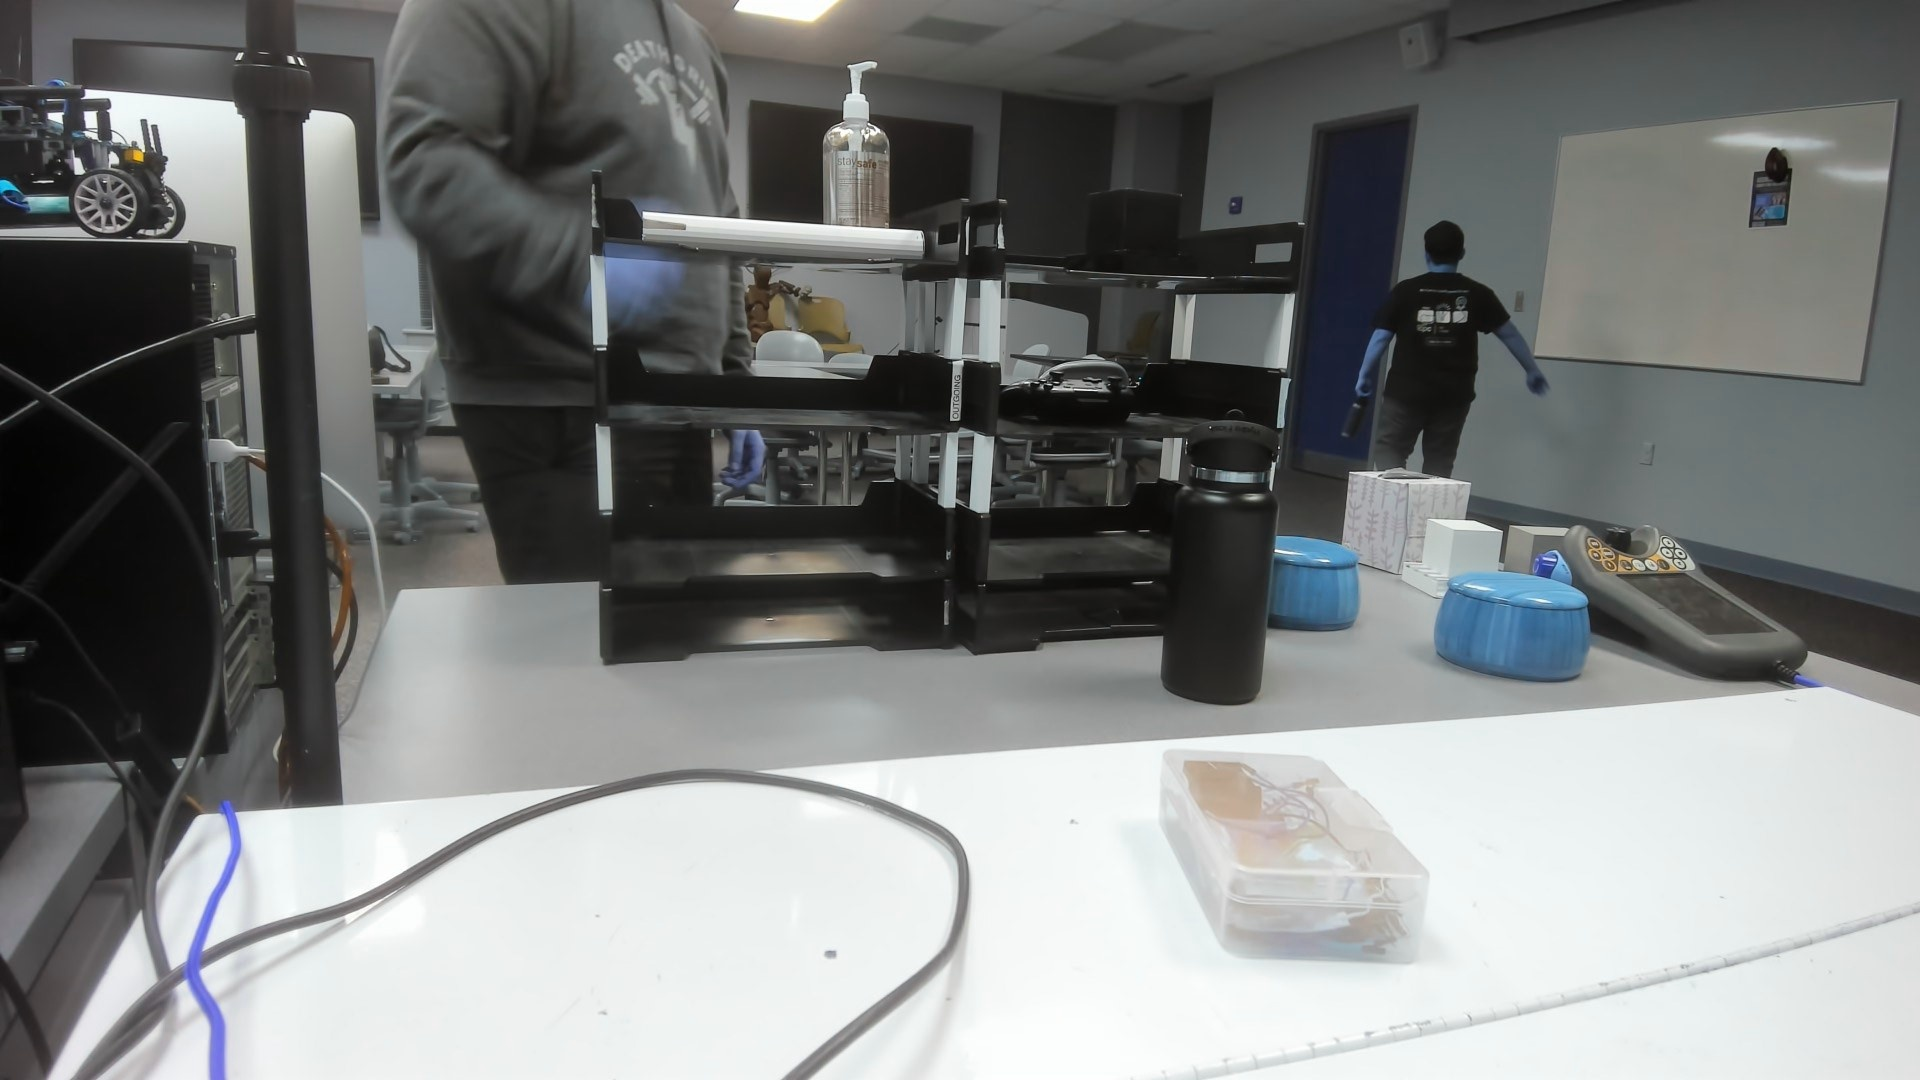black pallet: (1060, 185, 1199, 276)
grey pallet: (1501, 520, 1571, 574)
white pallet: (1399, 514, 1503, 599)
